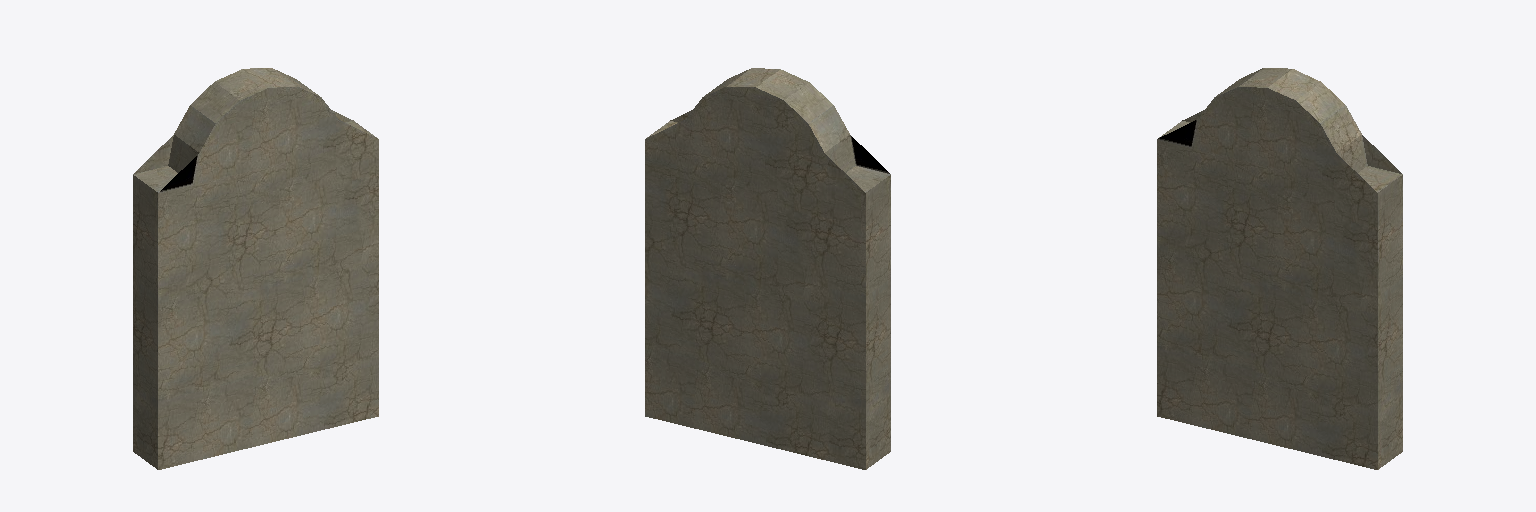
3 views of the same model, side by side, from view 1: azimuth 30°, elevation 25°; view 2: azimuth 150°, elevation 25°; view 3: azimuth 330°, elevation 25° (orthographic).
Size of the model in its own units: 1 by 1.54 by 0.2003.
1 materials, 1 textured.